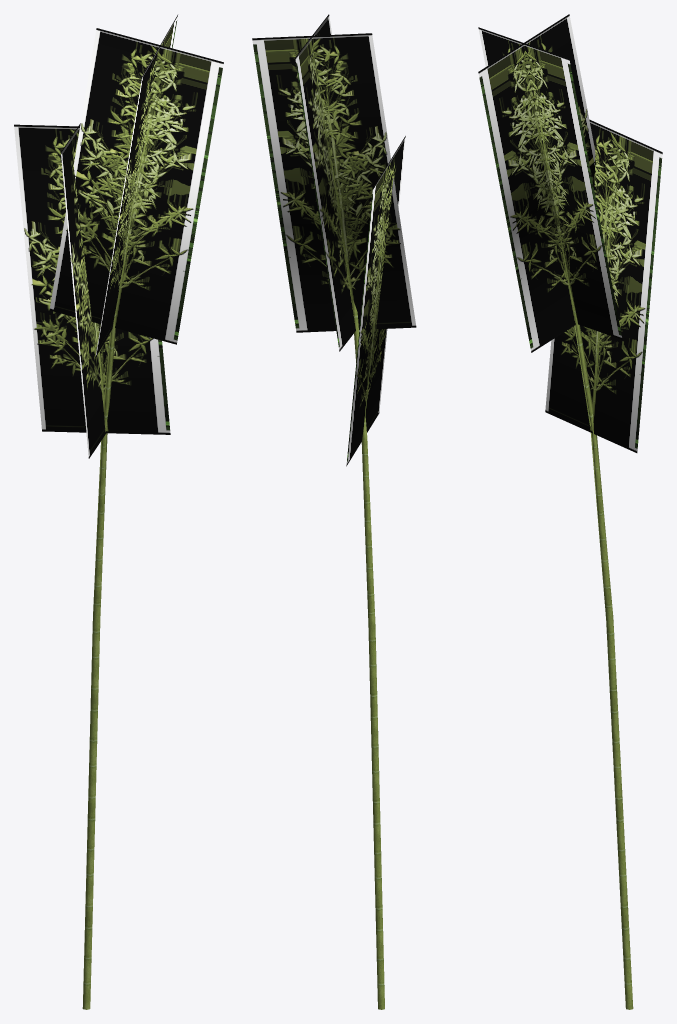
File: bamboo02.fbx
The picture shows the model from 3 angles, left to right: view 1: azimuth 30°, elevation 25°; view 2: azimuth 210°, elevation 25°; view 3: azimuth 270°, elevation 25°; orthographic projection. The views are drawn at different scales.
Visible parts, largest first — view 1: mdl_LOD0_sw; view 2: mdl_LOD0_sw; view 3: mdl_LOD0_sw.
Part boxes in pixels (x1,y1,x2,y2): mdl_LOD0_sw: (14, 15, 223, 1009); mdl_LOD0_sw: (252, 14, 416, 1009); mdl_LOD0_sw: (478, 14, 662, 1009).
Size of what is drawn, in the model's own units: 313 by 2576 by 438.
